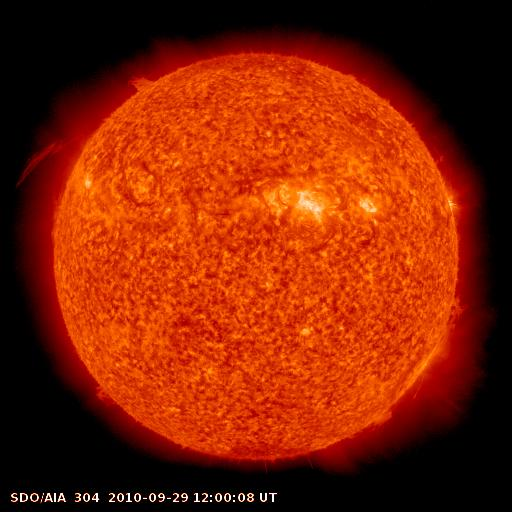prominence: (8, 127, 90, 200), (65, 370, 127, 420), (429, 292, 477, 346), (357, 398, 409, 443), (116, 64, 174, 103)
